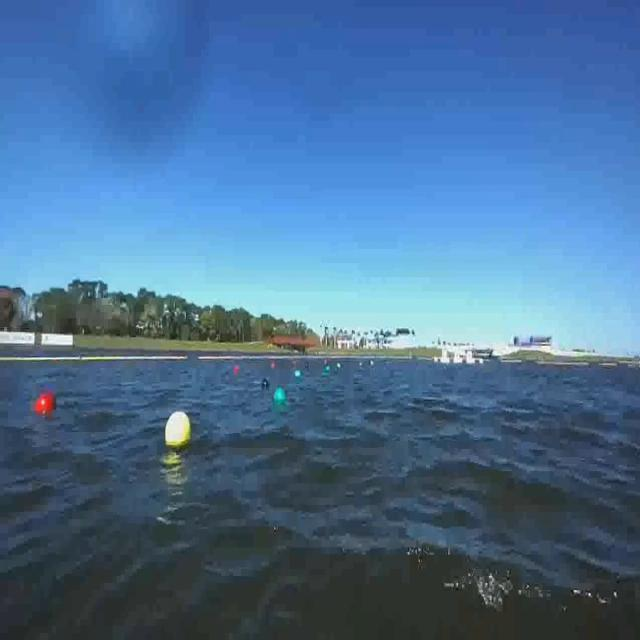black-buoy: (260, 376, 272, 393)
green-buoy: (275, 387, 286, 405)
red-buoy: (37, 395, 56, 419)
yellow-buoy: (165, 411, 191, 448)
